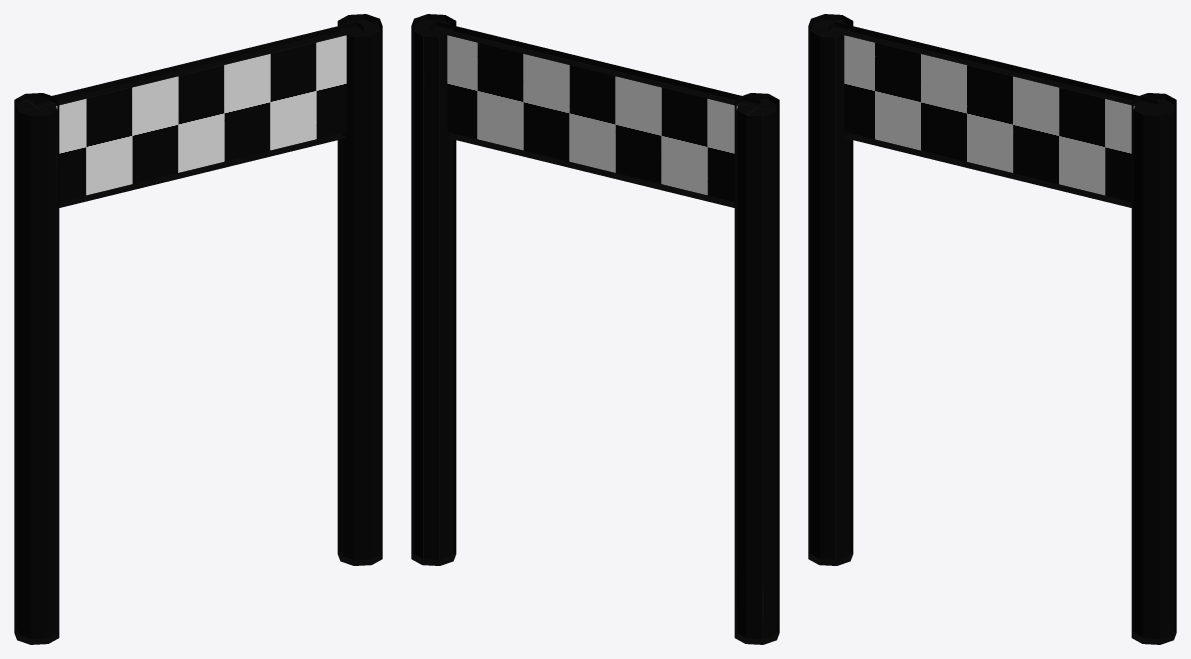
File: finish line_outline.fbx
3 renders of one model, left to right at view 1: azimuth 30°, elevation 25°; view 2: azimuth 150°, elevation 25°; view 3: azimuth 330°, elevation 25°, orthographic.
Visible parts, largest first — view 1: finish_line, finish_line.001; view 2: finish_line, finish_line.001; view 3: finish_line, finish_line.001.
Boxes of the visible parts, bbox=[...] form: finish_line: bbox=[16, 20, 380, 638]; finish_line.001: bbox=[14, 14, 382, 644]; finish_line: bbox=[413, 20, 777, 638]; finish_line.001: bbox=[411, 14, 779, 644]; finish_line: bbox=[810, 20, 1174, 638]; finish_line.001: bbox=[808, 14, 1176, 644].
Bounding box in the file's own units: 194 × 273 × 21.68.
2 materials, 1 textured.
